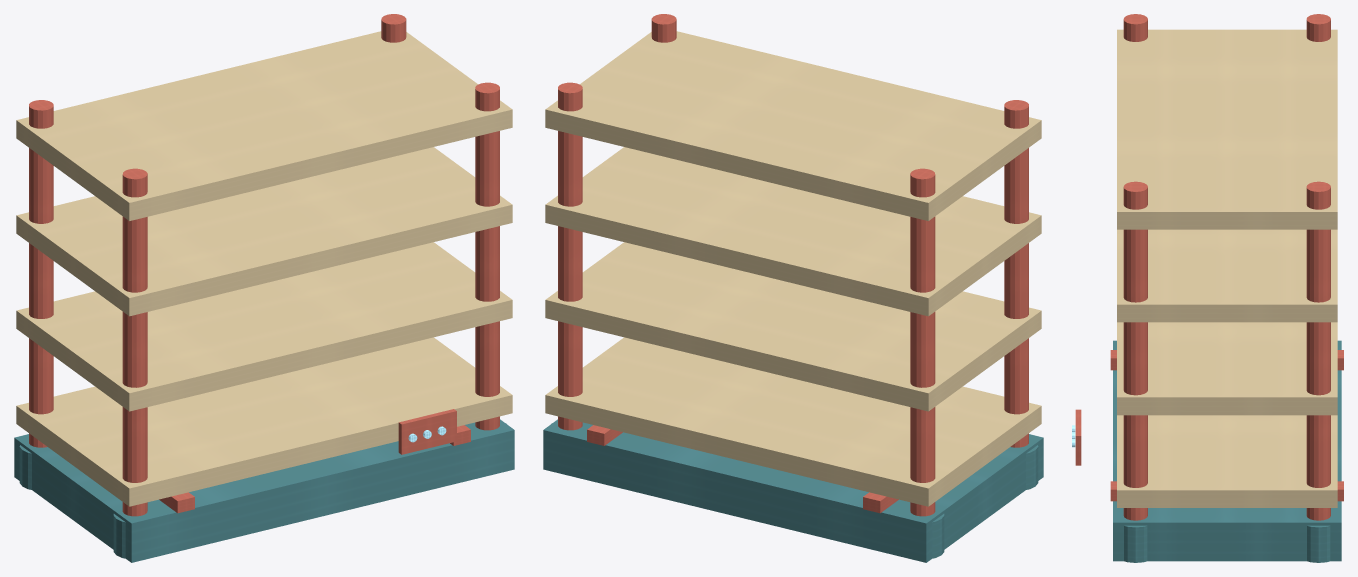
Rendered from atlas100-s080-a06.glb.
3 views of the same model, side by side, from view 1: azimuth 30°, elevation 25°; view 2: azimuth 150°, elevation 25°; view 3: azimuth 270°, elevation 25° (orthographic). The views are drawn at different scales.
Parts seen in each view (by area): view 1: atlas100-s080-a06:part-014, atlas100-s080-a06:part-012, atlas100-s080-a06:part-013, atlas100-s080-a06:part-011, atlas100-s080-a06:part-000, atlas100-s080-a06:part-005, atlas100-s080-a06:part-009, atlas100-s080-a06:part-003, atlas100-s080-a06:part-015, atlas100-s080-a06:part-007; view 2: atlas100-s080-a06:part-014, atlas100-s080-a06:part-012, atlas100-s080-a06:part-011, atlas100-s080-a06:part-013, atlas100-s080-a06:part-000, atlas100-s080-a06:part-003, atlas100-s080-a06:part-007, atlas100-s080-a06:part-005, atlas100-s080-a06:part-009; view 3: atlas100-s080-a06:part-014, atlas100-s080-a06:part-012, atlas100-s080-a06:part-013, atlas100-s080-a06:part-011, atlas100-s080-a06:part-000, atlas100-s080-a06:part-009, atlas100-s080-a06:part-007, atlas100-s080-a06:part-008, atlas100-s080-a06:part-010, atlas100-s080-a06:part-003, atlas100-s080-a06:part-005, atlas100-s080-a06:part-015.
Part boxes in pixels (x1=…): atlas100-s080-a06:part-014: x1=16, y1=31, x2=512, y2=220; atlas100-s080-a06:part-012: x1=16, y1=242, x2=512, y2=411; atlas100-s080-a06:part-013: x1=16, y1=147, x2=512, y2=316; atlas100-s080-a06:part-011: x1=16, y1=337, x2=512, y2=506; atlas100-s080-a06:part-000: x1=14, y1=419, x2=514, y2=562; atlas100-s080-a06:part-005: x1=122, y1=168, x2=147, y2=516; atlas100-s080-a06:part-009: x1=475, y1=82, x2=499, y2=430; atlas100-s080-a06:part-003: x1=29, y1=100, x2=53, y2=447; atlas100-s080-a06:part-015: x1=398, y1=409, x2=456, y2=454; atlas100-s080-a06:part-007: x1=381, y1=14, x2=406, y2=42; atlas100-s080-a06:part-014: x1=545, y1=31, x2=1041, y2=220; atlas100-s080-a06:part-012: x1=545, y1=242, x2=1041, y2=411; atlas100-s080-a06:part-011: x1=545, y1=337, x2=1041, y2=506; atlas100-s080-a06:part-013: x1=545, y1=147, x2=1041, y2=316; atlas100-s080-a06:part-000: x1=543, y1=419, x2=1043, y2=562; atlas100-s080-a06:part-003: x1=910, y1=168, x2=935, y2=516; atlas100-s080-a06:part-007: x1=558, y1=82, x2=582, y2=430; atlas100-s080-a06:part-005: x1=1004, y1=100, x2=1028, y2=447; atlas100-s080-a06:part-009: x1=651, y1=14, x2=676, y2=42; atlas100-s080-a06:part-014: x1=1117, y1=29, x2=1337, y2=229; atlas100-s080-a06:part-012: x1=1117, y1=322, x2=1337, y2=415; atlas100-s080-a06:part-013: x1=1117, y1=229, x2=1337, y2=322; atlas100-s080-a06:part-011: x1=1117, y1=415, x2=1337, y2=507; atlas100-s080-a06:part-000: x1=1113, y1=340, x2=1341, y2=561; atlas100-s080-a06:part-009: x1=1123, y1=181, x2=1147, y2=520; atlas100-s080-a06:part-007: x1=1306, y1=181, x2=1330, y2=520; atlas100-s080-a06:part-008: x1=1307, y1=525, x2=1330, y2=562; atlas100-s080-a06:part-010: x1=1124, y1=525, x2=1147, y2=562; atlas100-s080-a06:part-003: x1=1306, y1=14, x2=1330, y2=41; atlas100-s080-a06:part-005: x1=1123, y1=14, x2=1147, y2=41; atlas100-s080-a06:part-015: x1=1075, y1=409, x2=1081, y2=465.
Size of the model in its own units: 2.69 by 2.48 by 1.66.
4 materials, 4 textured.
